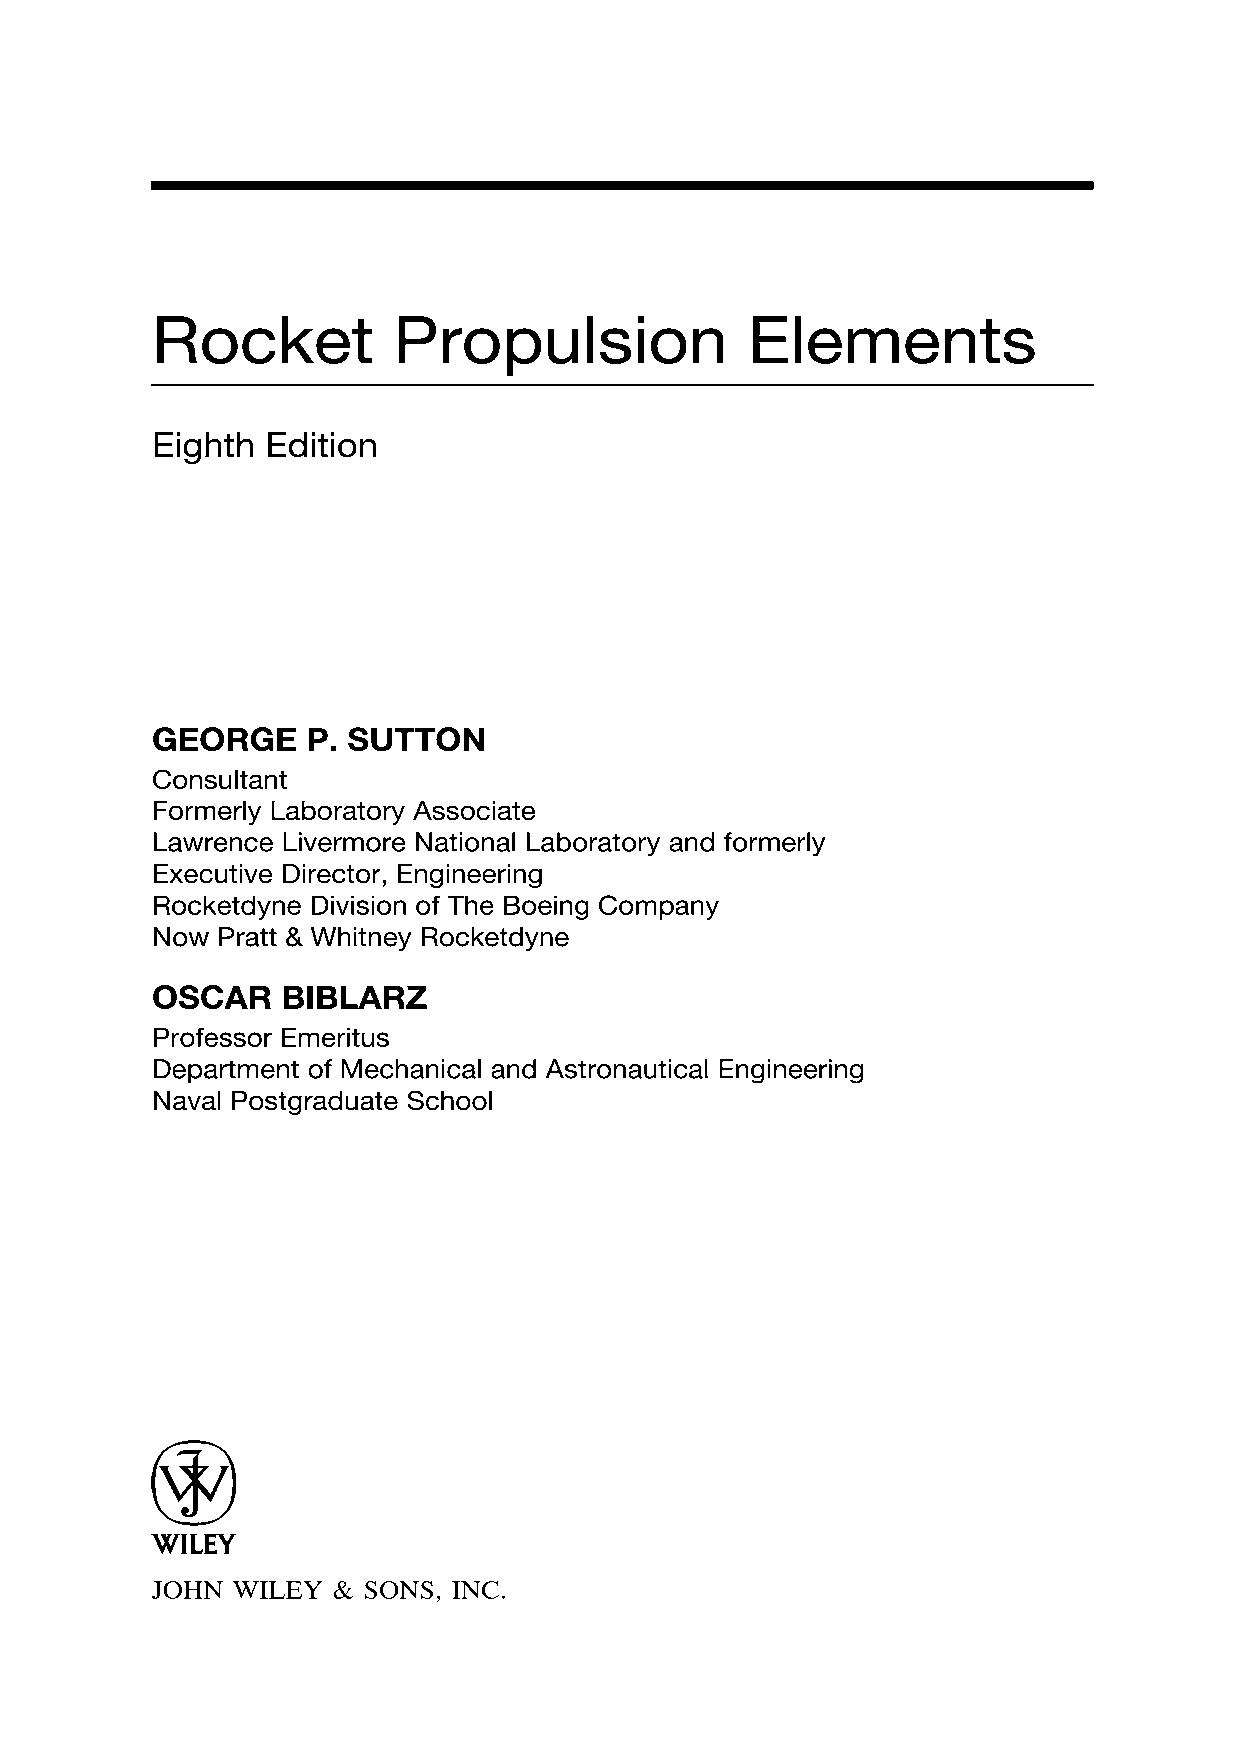author: (152, 721, 487, 756)
title: (152, 309, 1036, 368)
